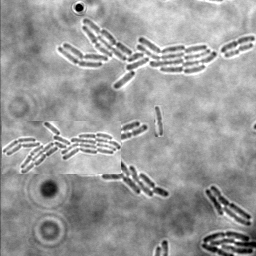Dividing: (219, 34, 255, 52), (223, 41, 253, 57), (154, 105, 164, 137)
Microcolony: (57, 18, 216, 89), (2, 121, 121, 174), (204, 184, 251, 226), (200, 230, 255, 255)
